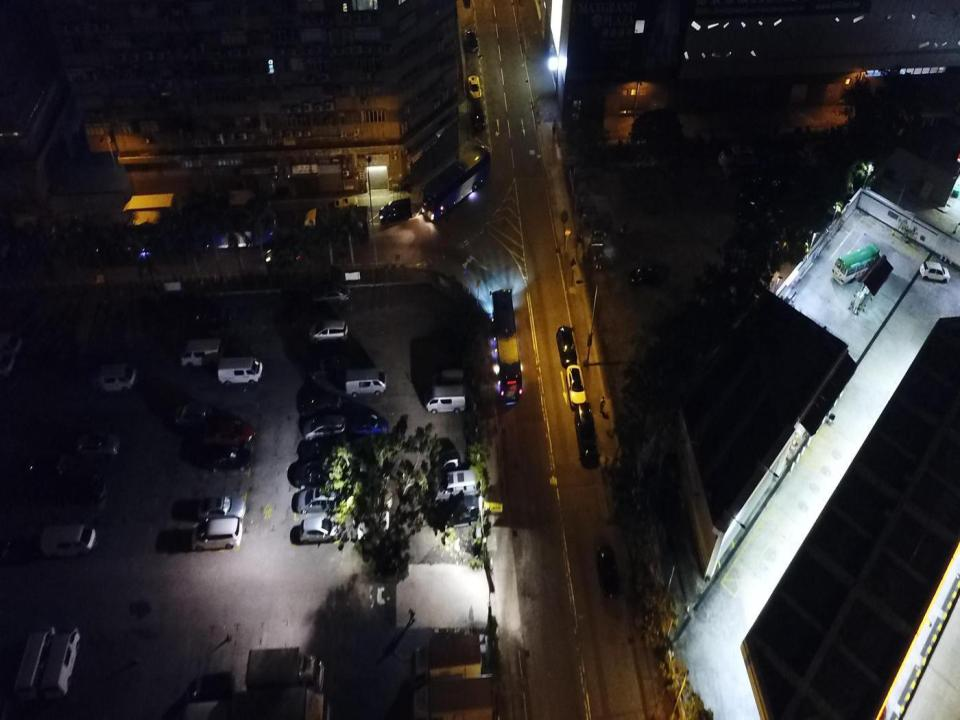bus: (422, 144, 490, 219), (71, 211, 161, 259), (179, 212, 276, 250), (491, 288, 522, 405), (831, 243, 882, 284)
car: (56, 472, 105, 504), (438, 496, 479, 529), (204, 419, 254, 446), (298, 485, 342, 513), (198, 496, 247, 521), (205, 444, 250, 471), (597, 544, 619, 598), (295, 463, 345, 484), (26, 452, 64, 479), (300, 519, 340, 544), (307, 356, 347, 380), (77, 434, 120, 456), (175, 403, 212, 428), (566, 364, 586, 410), (312, 282, 350, 306), (349, 411, 388, 434), (304, 440, 344, 461), (556, 326, 576, 366), (920, 260, 950, 282), (630, 265, 660, 287), (432, 368, 464, 388), (266, 249, 298, 265), (468, 75, 482, 100), (634, 156, 658, 168), (466, 29, 478, 52)
truck: (410, 632, 482, 689), (411, 676, 497, 719), (245, 647, 326, 692), (303, 208, 370, 245), (122, 195, 178, 233)
van: (234, 687, 330, 719), (15, 625, 56, 699), (40, 626, 80, 698), (40, 524, 96, 558), (191, 517, 242, 553), (432, 470, 479, 505), (575, 403, 598, 465), (216, 357, 263, 387), (345, 368, 388, 398), (181, 339, 224, 368), (425, 386, 466, 416), (96, 364, 136, 393), (304, 415, 346, 439), (302, 395, 341, 420), (308, 320, 348, 344), (379, 197, 413, 225), (718, 144, 756, 166), (323, 196, 359, 216), (472, 100, 485, 132)
